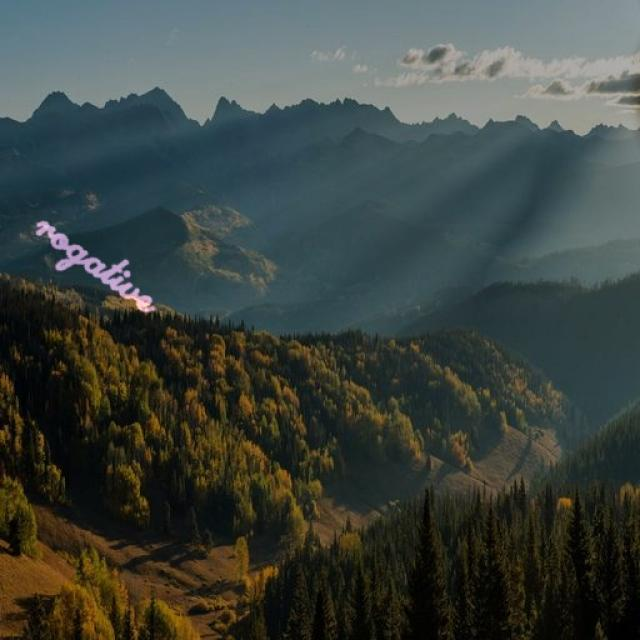watermark: (23, 199, 179, 322)
